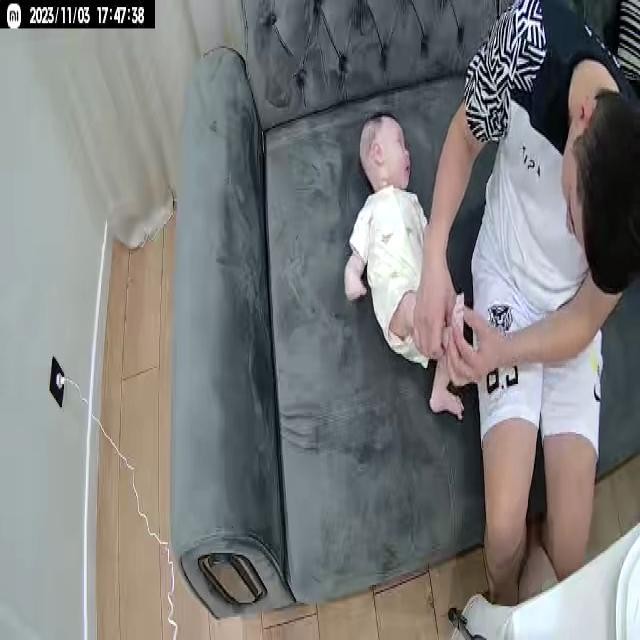baby: (340, 110, 470, 420)
